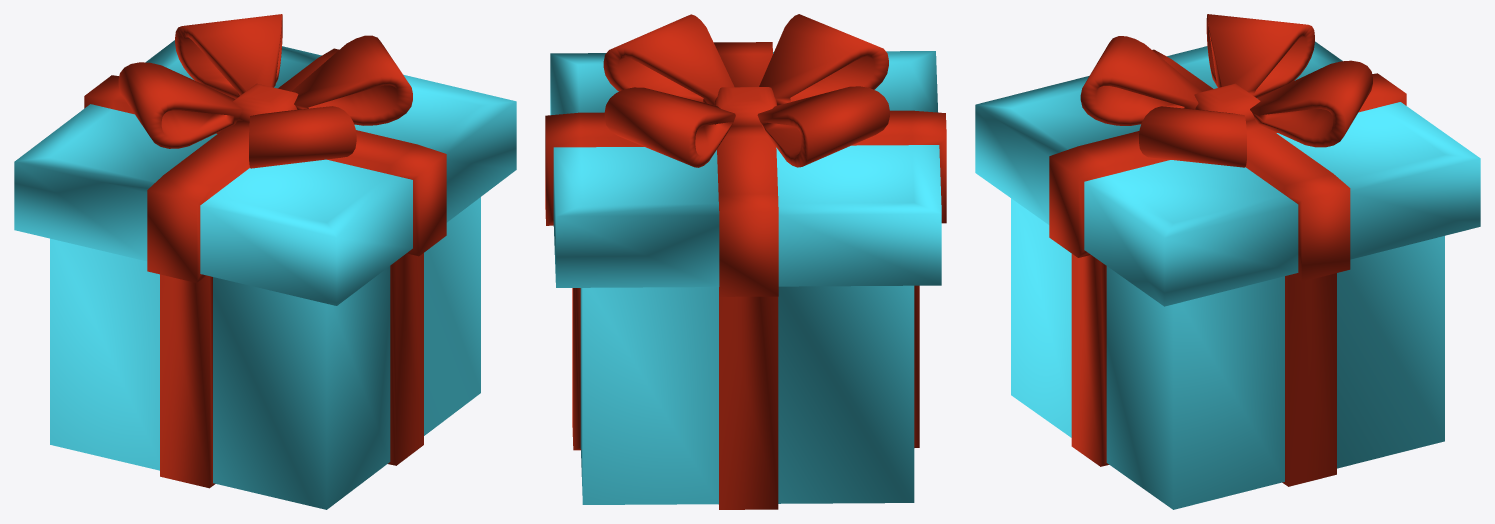
The model's file is GiftBox_1.fbx.
3 views of the same model, side by side, from view 1: azimuth 30°, elevation 25°; view 2: azimuth 150°, elevation 25°; view 3: azimuth 270°, elevation 25° (orthographic). The views are drawn at different scales.
Parts seen in each view (by area): view 1: GiftBox_1; view 2: GiftBox_1; view 3: GiftBox_1.
Boxes of the visible parts, box(x1,y1,x2,y2) form: GiftBox_1: box(14, 14, 516, 509); GiftBox_1: box(545, 14, 946, 509); GiftBox_1: box(975, 14, 1480, 509).
Size of the model in its own units: 0.3299 by 0.2555 by 0.3299.
